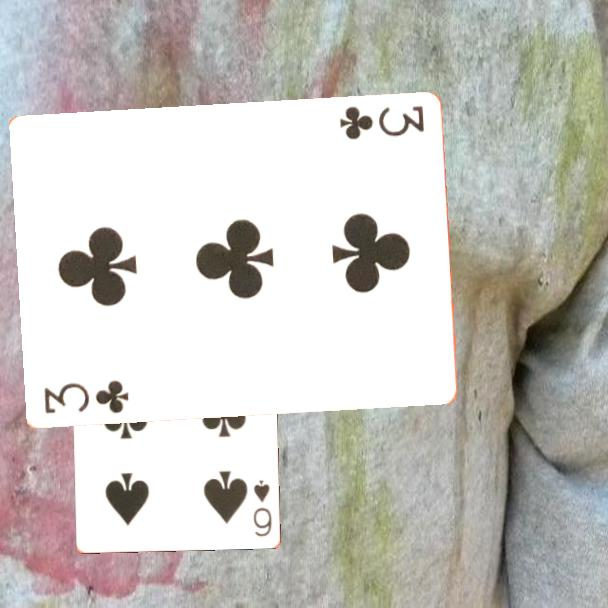c03: (335, 102, 426, 143), (40, 377, 132, 417)
s06: (249, 476, 274, 539)
